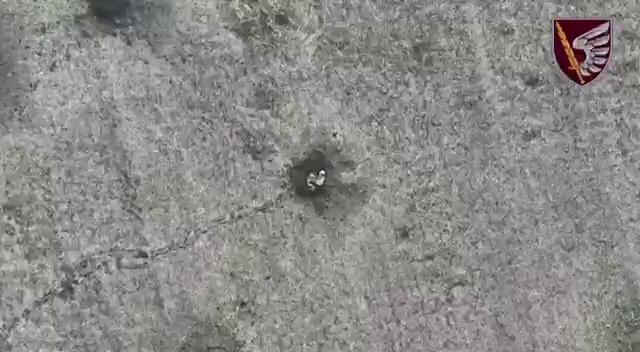person: (306, 168, 326, 191)
